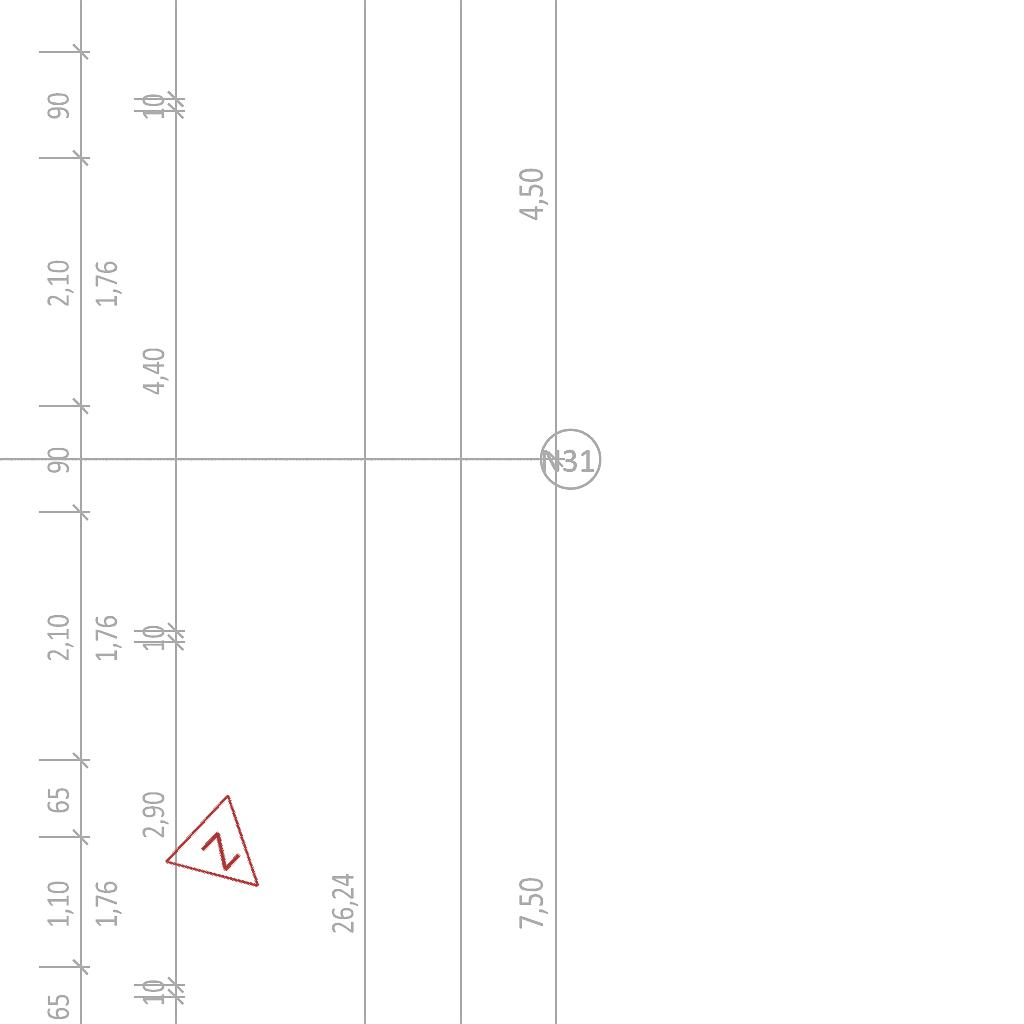Zimmersignalleuchte: (158, 786, 298, 926)
